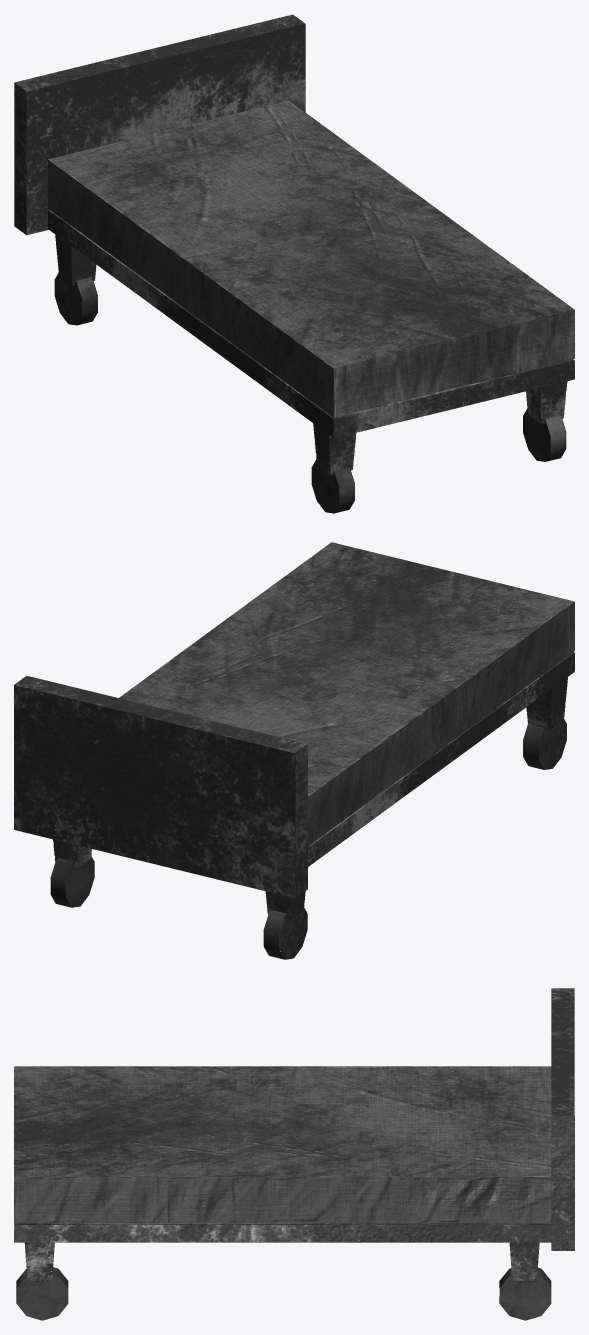
File: Bed.fbx
The picture shows the model from 3 angles, top to bottom: view 1: azimuth 30°, elevation 25°; view 2: azimuth 150°, elevation 25°; view 3: azimuth 270°, elevation 25°; orthographic projection. The views are drawn at different scales.
Parts seen in each view (by area): view 1: Bed; view 2: Bed; view 3: Bed.
Boxes of the visible parts, <box> form: Bed: <box>14,14,574,513</box>; Bed: <box>14,542,574,959</box>; Bed: <box>14,988,574,1320</box>.
Size of the model in its own units: 101 by 79.58 by 188.
1 material, 1 textured.
